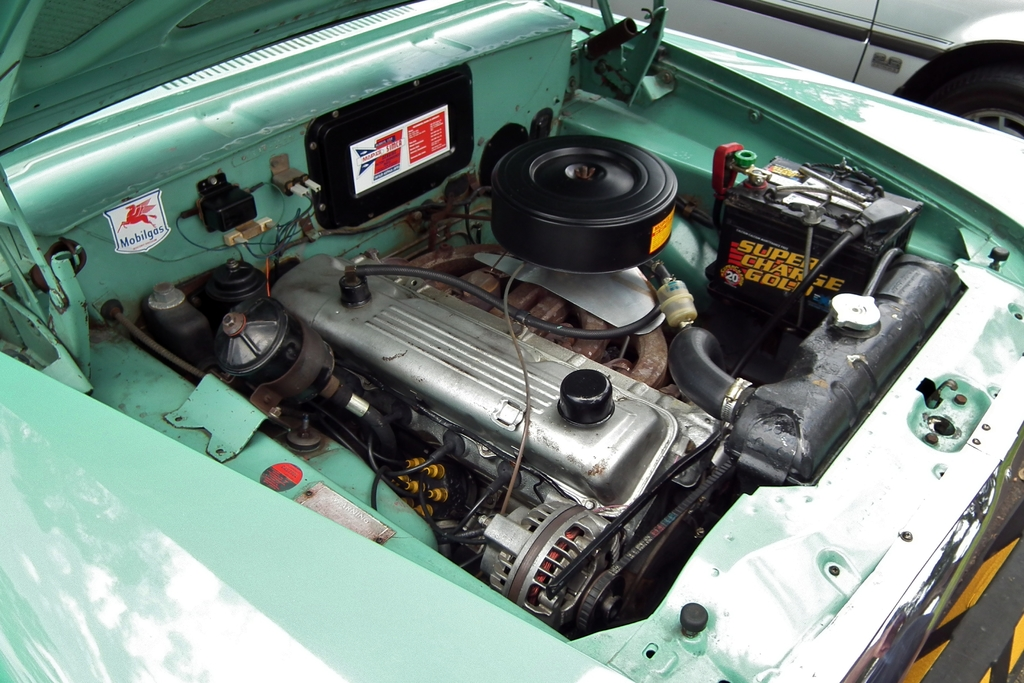Car: (0, 0, 1023, 682), (568, 0, 1022, 135)
